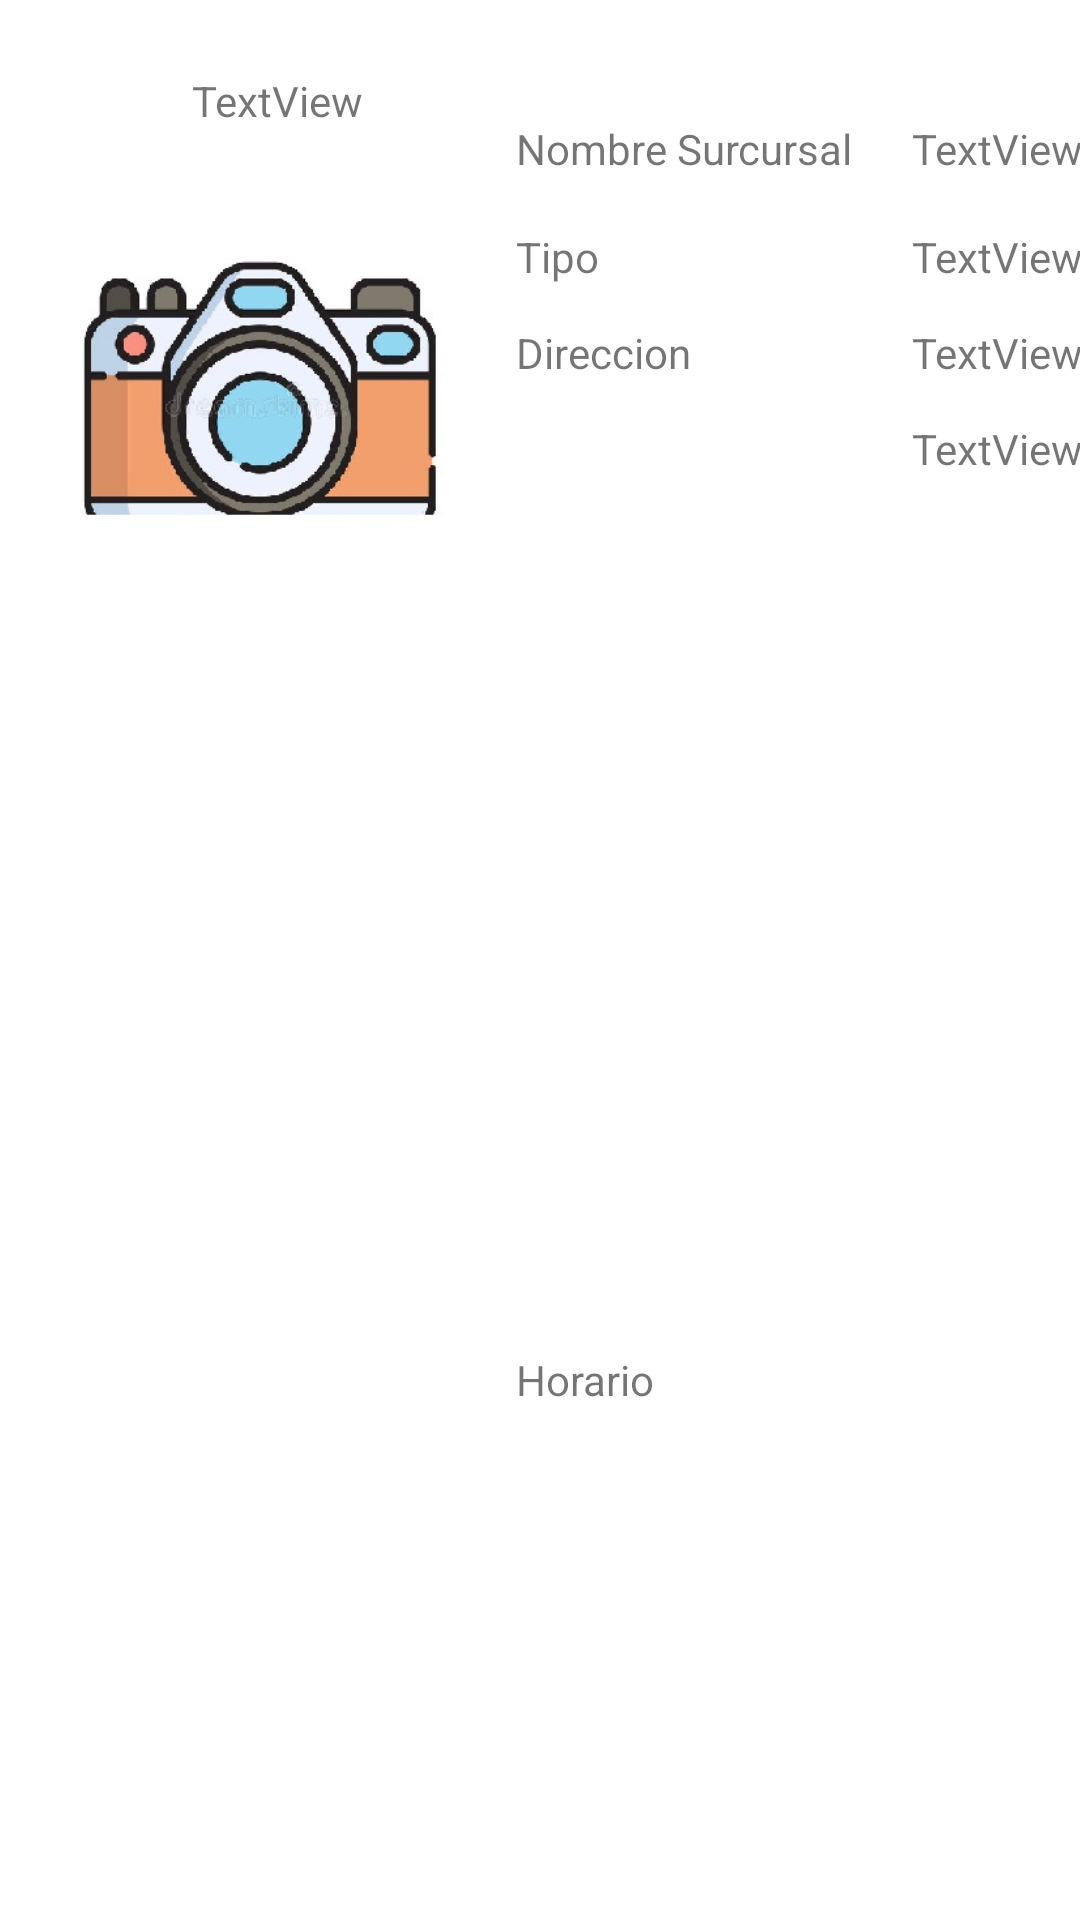

Icon bounding boxes for this 1080px x 1920px phone screenshot, format (x1, y1, x2, y2):
camara: (84, 261, 436, 515)
